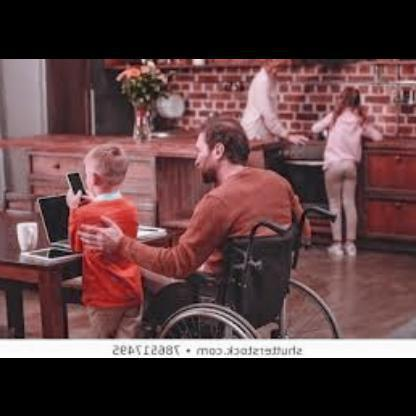person: (81, 118, 305, 337), (66, 144, 141, 337), (311, 86, 384, 256), (240, 65, 308, 177)
